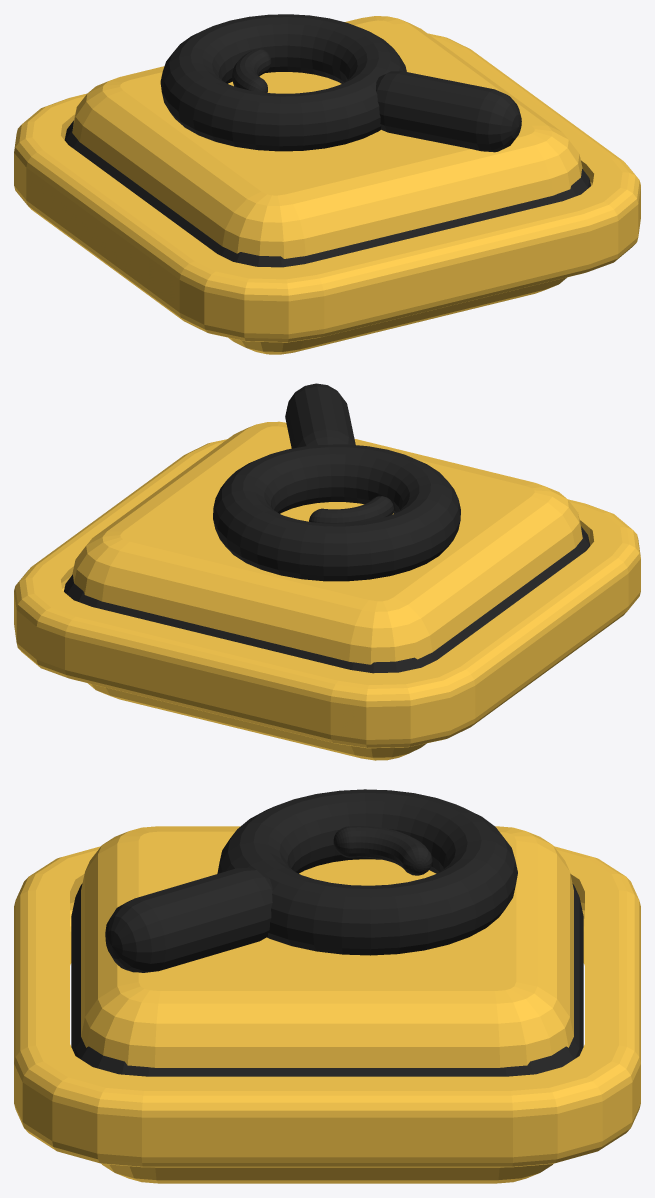
File: Button_Hints.fbx
3 views of the same model, one above another, from view 1: azimuth 30°, elevation 25°; view 2: azimuth 150°, elevation 25°; view 3: azimuth 270°, elevation 25° (orthographic). The views are drawn at different scales.
Parts seen in each view (by area): view 1: Cube_12, Cube, Torus, Capsule, Cube_10, Capsule_1; view 2: Cube_12, Cube, Torus, Cube_10, Capsule, Capsule_1; view 3: Cube, Cube_12, Torus, Capsule, Cube_10, Capsule_1.
Boxes of the visible parts, bbox=[...] form: Cube_12: bbox=[14, 33, 640, 342]; Cube: bbox=[72, 16, 582, 354]; Torus: bbox=[160, 14, 406, 151]; Capsule: bbox=[376, 71, 521, 152]; Cube_10: bbox=[64, 120, 590, 267]; Capsule_1: bbox=[232, 49, 271, 92]; Cube_12: bbox=[14, 439, 640, 748]; Cube: bbox=[72, 421, 582, 760]; Torus: bbox=[213, 444, 460, 581]; Cube_10: bbox=[64, 526, 590, 673]; Capsule: bbox=[285, 383, 355, 448]; Capsule_1: bbox=[309, 496, 393, 523]; Cube: bbox=[81, 826, 573, 1183]; Cube_12: bbox=[14, 846, 640, 1167]; Torus: bbox=[217, 789, 517, 955]; Capsule: bbox=[105, 867, 272, 972]; Cube_10: bbox=[71, 883, 583, 1076]; Capsule_1: bbox=[333, 826, 432, 875].
Size of the model in its own units: 254 by 111 by 254.
